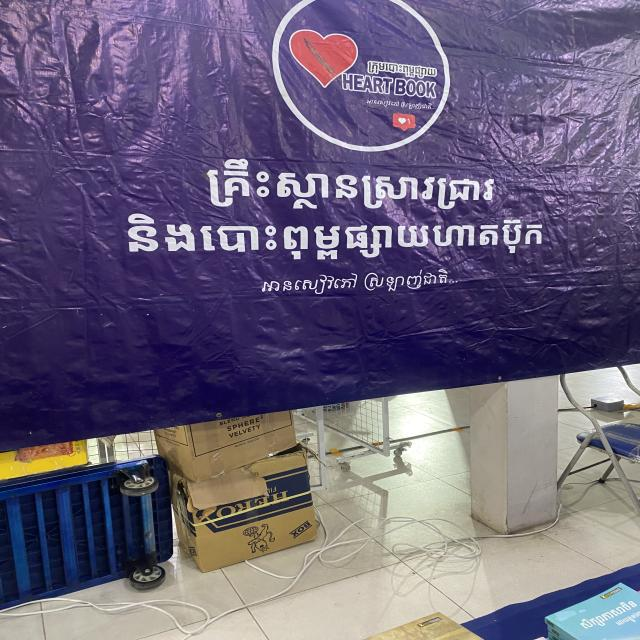1: (257, 267, 463, 300), (366, 98, 438, 112)
503: (405, 117, 412, 126)
Yolov11_80vkh: (119, 212, 553, 269), (196, 155, 498, 218), (573, 597, 640, 633), (364, 58, 439, 80), (614, 610, 640, 628)
